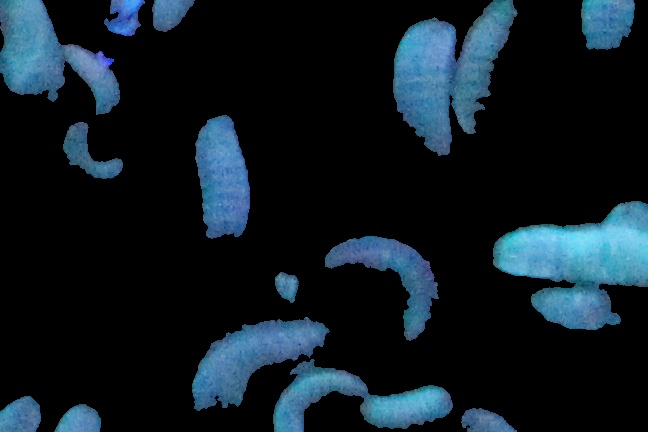larvae: (190, 313, 328, 412), (326, 231, 441, 340), (488, 220, 648, 288), (190, 111, 261, 257), (394, 22, 457, 175), (456, 1, 522, 138), (1, 1, 68, 101), (270, 369, 367, 432), (57, 120, 132, 186), (577, 1, 634, 86), (361, 386, 459, 431), (68, 43, 126, 118)
